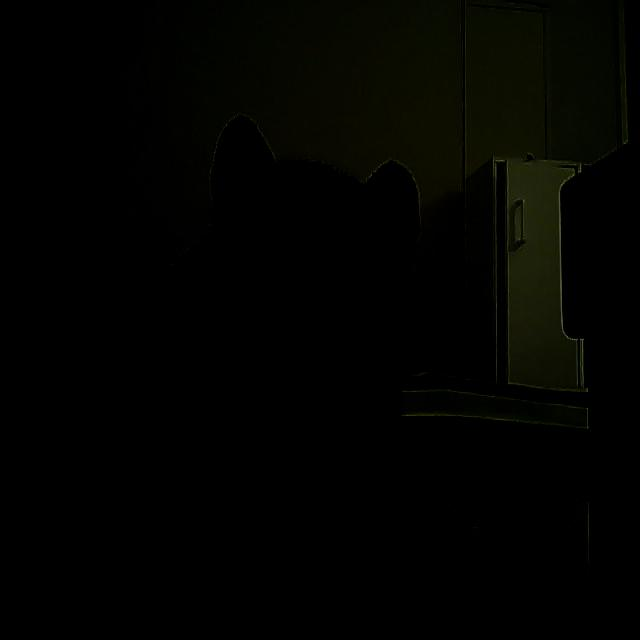Dog: (114, 65, 469, 640)
